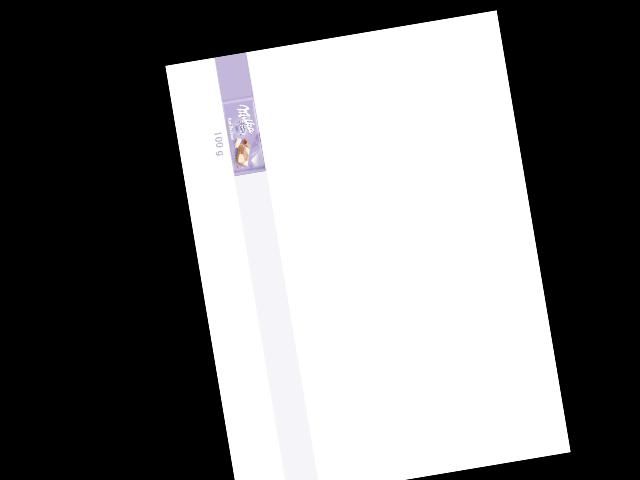chocolate: (220, 94, 266, 177)
